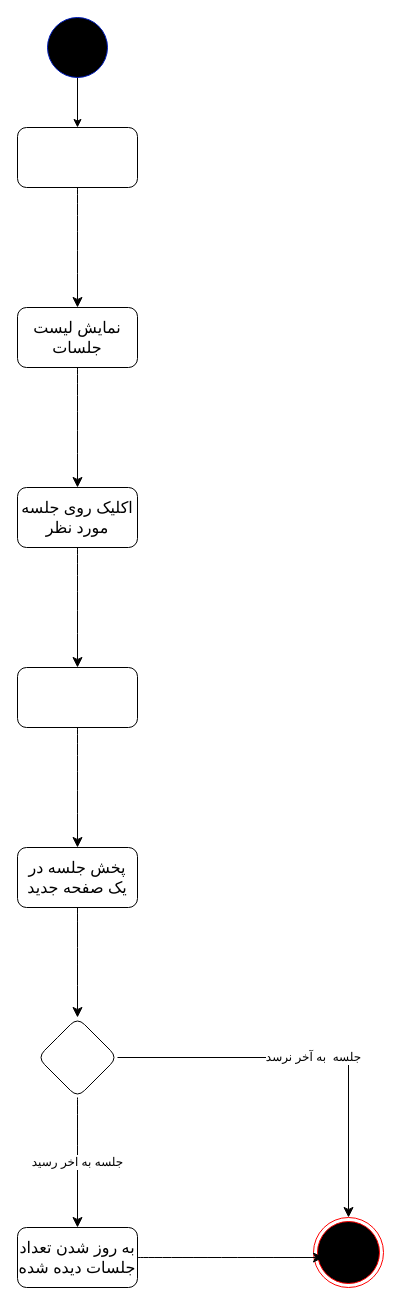
Image size: 401x1305. Some labels were removed from this diagram. Here are the shapes that lost their labels. From the top down, the box of each, then its label:
(16, 126, 138, 188): کلیک روی دوره مورد نظر
(16, 666, 138, 728): پیدا کردن جلسه در دیتابیس
